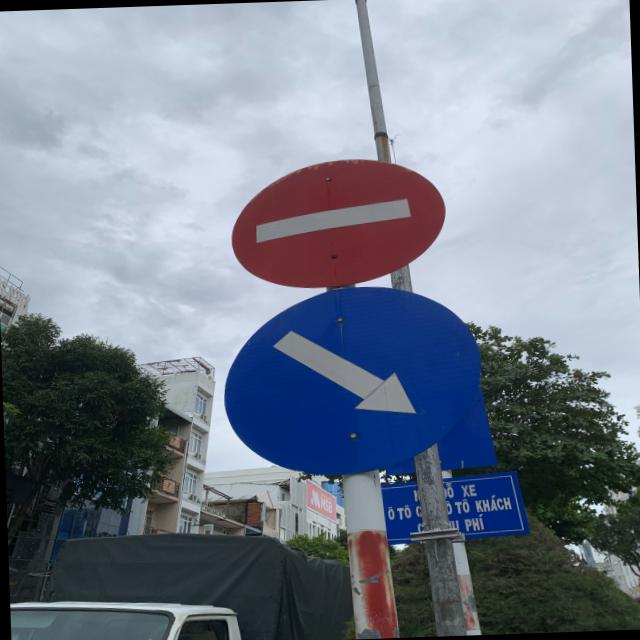Cam_Di_Nguoc_Chieu: (228, 154, 450, 292)
Chi_Huong_Di_Phai: (218, 281, 492, 479)
